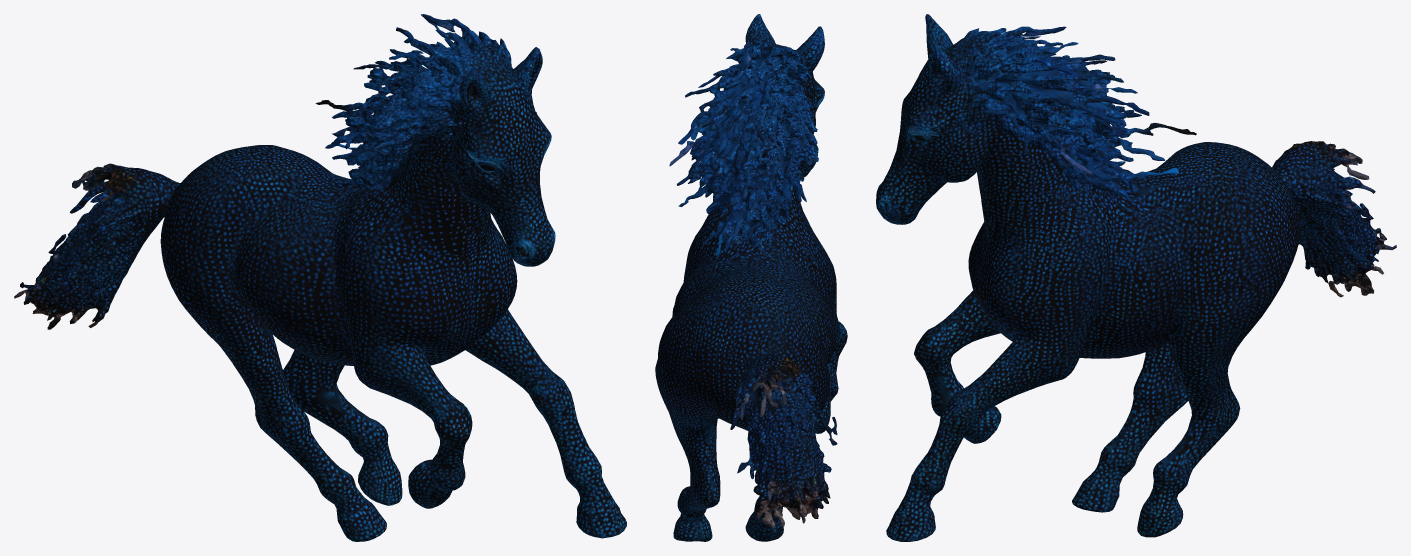
File: horse.obj
3 renders of one model, left to right at view 1: azimuth 30°, elevation 25°; view 2: azimuth 150°, elevation 25°; view 3: azimuth 270°, elevation 25°, orthographic. The views are drawn at different scales.
Parts seen in each view (by area): view 1: material; view 2: material; view 3: material.
Part boxes in pixels (<box>): material: <box>14,14,626,541</box>; material: <box>655,14,847,541</box>; material: <box>876,14,1396,541</box>.
Bounding box in the file's own units: 0.5833 × 0.7947 × 0.7365.
